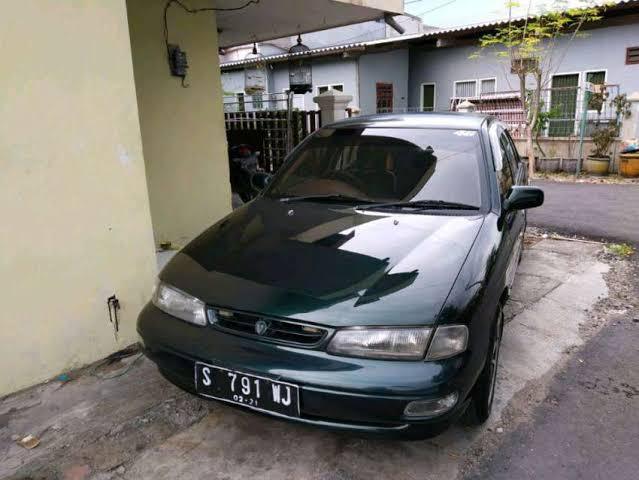plate: (193, 358, 304, 425)
